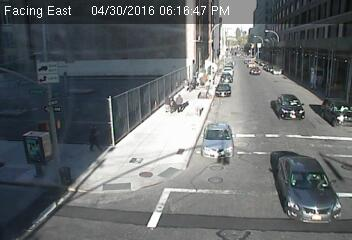neg: (55, 164, 76, 191), (33, 61, 51, 85), (312, 66, 329, 89), (43, 98, 57, 117), (188, 71, 201, 88)
pos: (83, 122, 106, 153), (161, 94, 175, 112)
